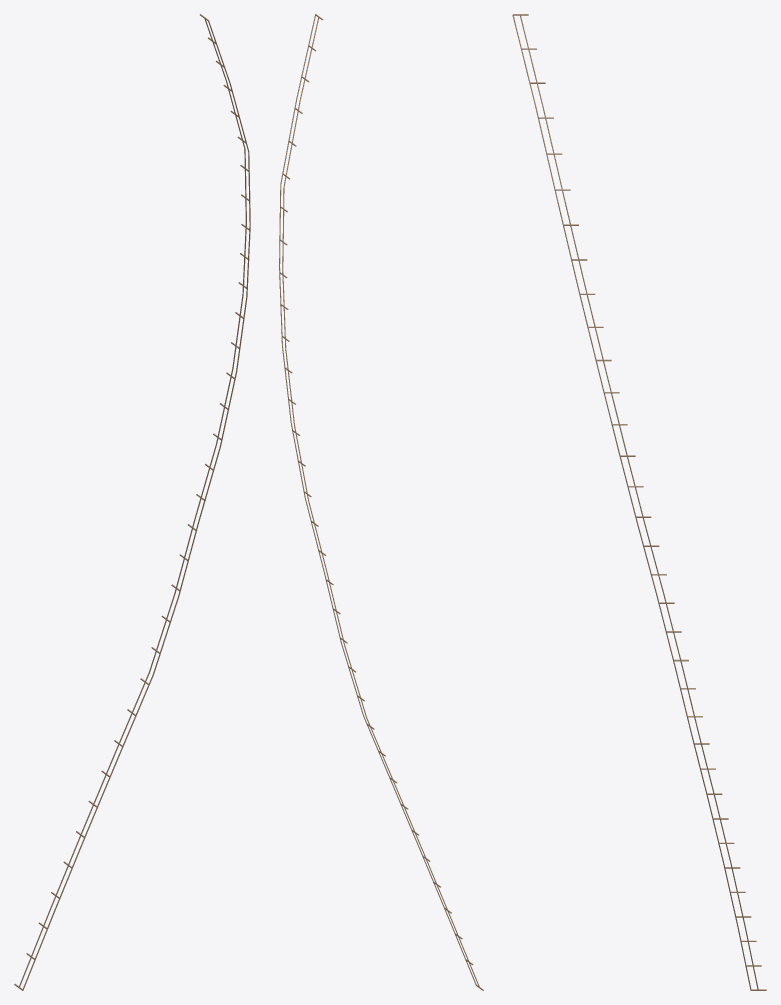
The model's file is improvement-2.glb.
3 renders of one model, left to right at view 1: azimuth 30°, elevation 25°; view 2: azimuth 210°, elevation 25°; view 3: azimuth 270°, elevation 25°, orthographic. The views are drawn at different scales.
Bounding box in the file's own units: 9.38 × 64.25 × 14.71.
